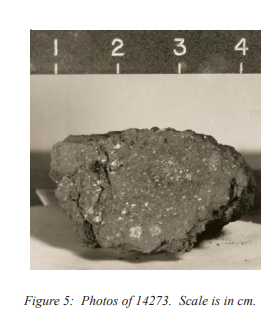Breccia: (45, 121, 260, 258), (79, 134, 186, 230), (79, 142, 186, 230)
